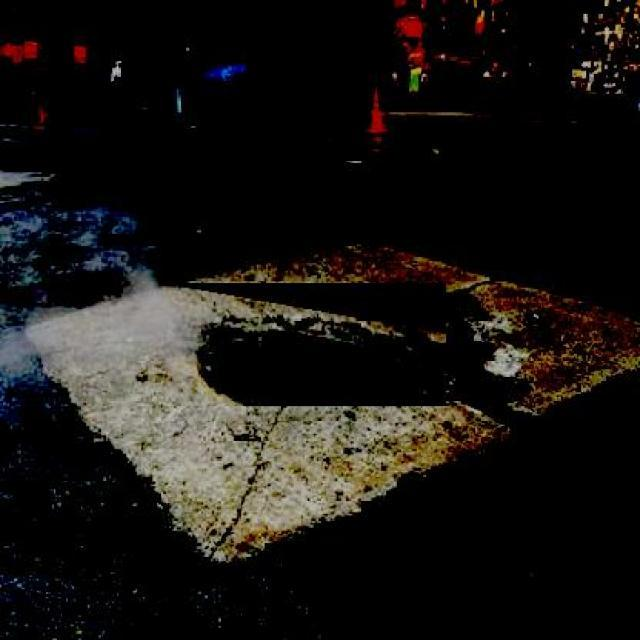Open Manhole: (163, 283, 446, 406)
